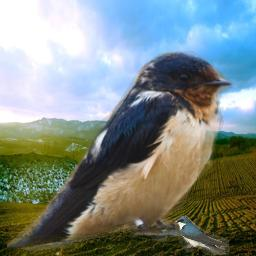Swallow: (7, 50, 236, 252), (175, 216, 229, 255)
